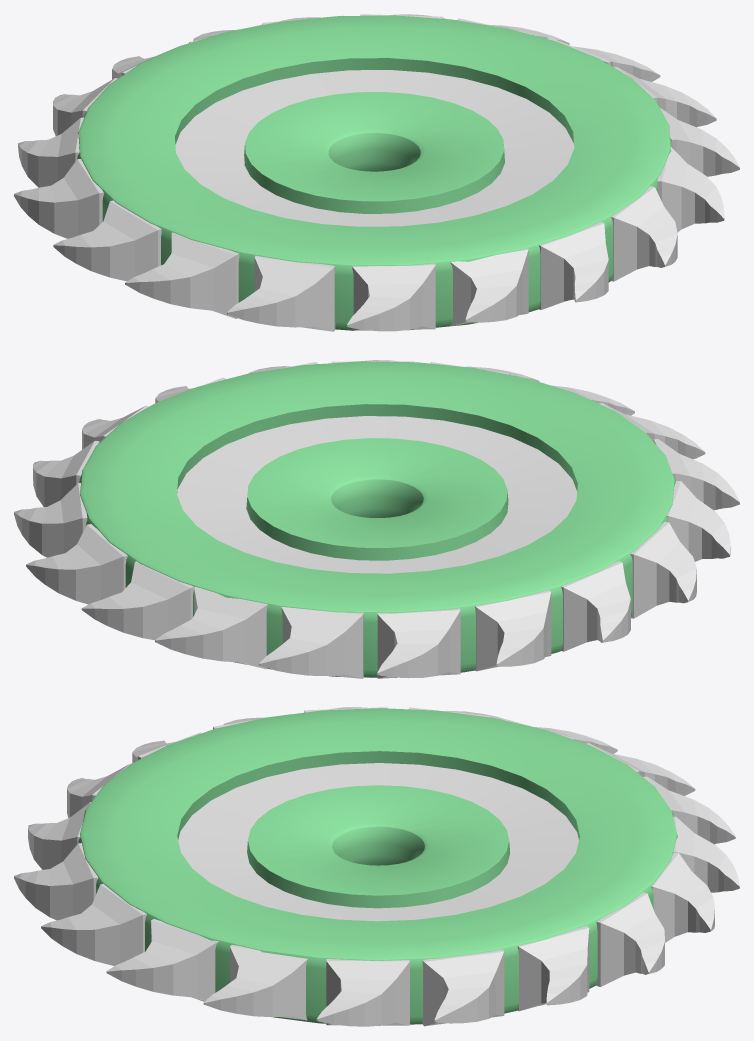
3 renders of one model, top to bottom at view 1: azimuth 30°, elevation 25°; view 2: azimuth 150°, elevation 25°; view 3: azimuth 270°, elevation 25°, orthographic.
Visible parts, largest first — view 1: Saw_2; view 2: Saw_2; view 3: Saw_2.
Boxes of the visible parts, <box> form: Saw_2: <box>14,14,739,331</box>; Saw_2: <box>14,360,739,678</box>; Saw_2: <box>14,707,739,1026</box>.
Bounding box in the file's own units: 501 × 51.74 × 497.
